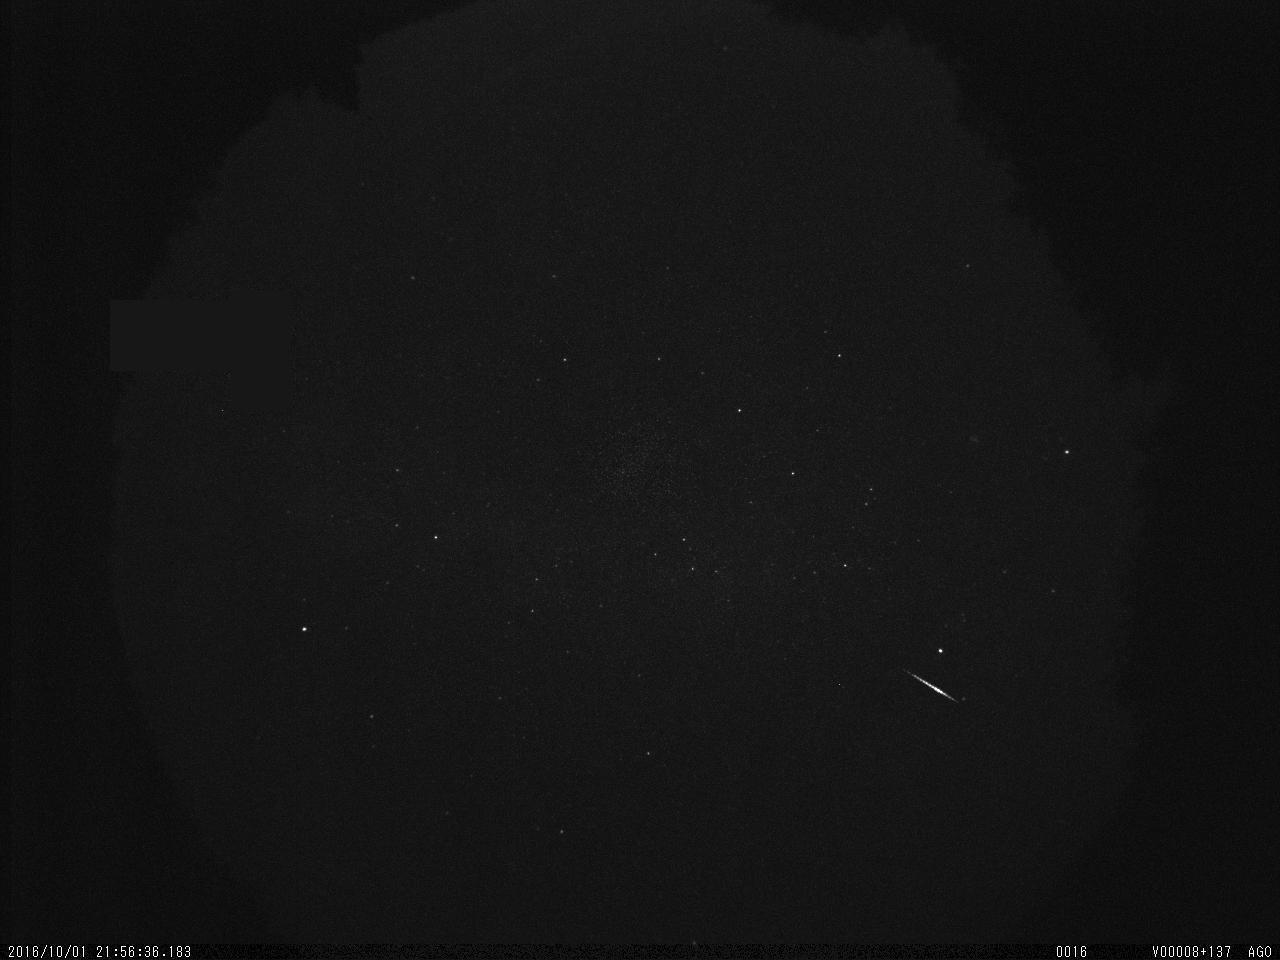meteor: (888, 659, 966, 710)
